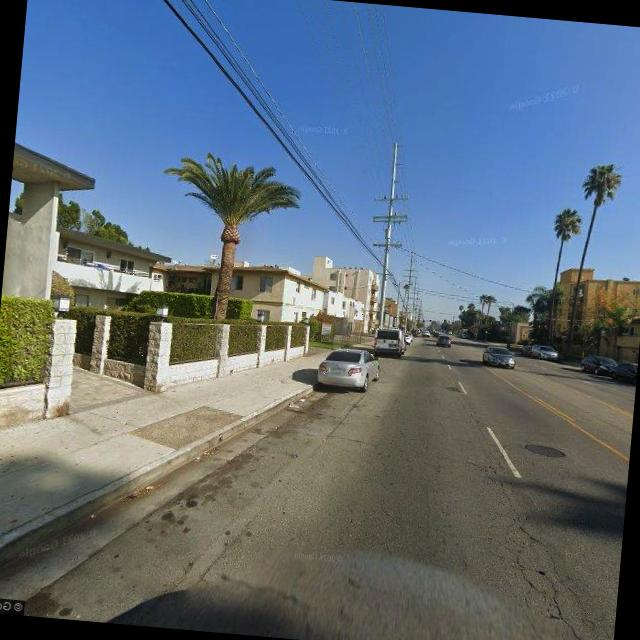pothole: (481, 463, 594, 640)
